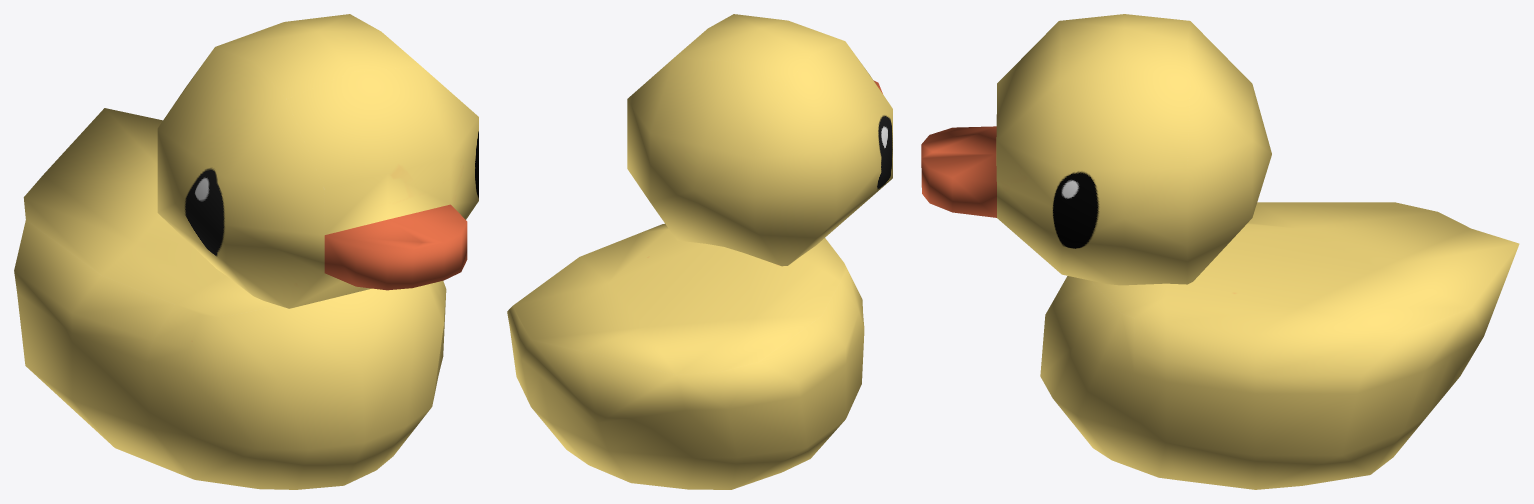
The model's file is duck.glb.
The picture shows the model from 3 angles, left to right: view 1: azimuth 30°, elevation 25°; view 2: azimuth 150°, elevation 25°; view 3: azimuth 270°, elevation 25°; orthographic projection. The views are drawn at different scales.
Visible parts, largest first — view 1: Duck; view 2: Duck; view 3: Duck.
Part boxes in pixels (x1=…): Duck: x1=14, y1=14, x2=478, y2=489; Duck: x1=507, y1=14, x2=892, y2=489; Duck: x1=921, y1=14, x2=1519, y2=489.
Size of the model in its own units: 2 by 2.37 by 3.2.
Materials: 2 (1 with a texture image).
